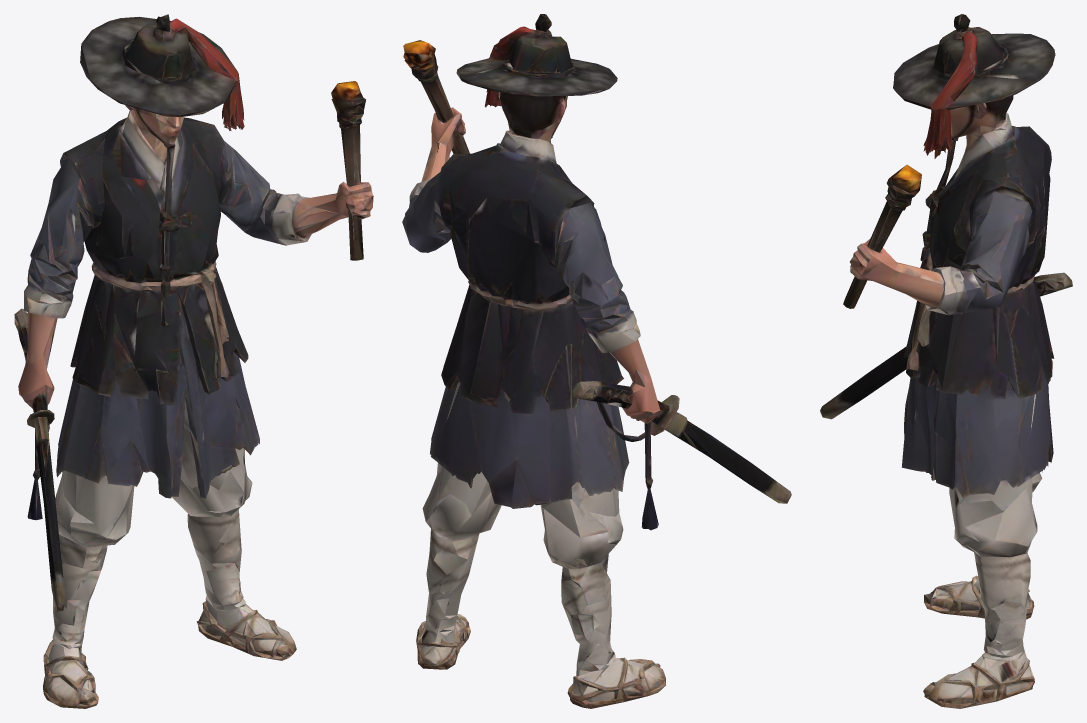
The model's file is rioter_torch.glb.
The picture shows the model from 3 angles, left to right: view 1: azimuth 30°, elevation 25°; view 2: azimuth 150°, elevation 25°; view 3: azimuth 270°, elevation 25°; orthographic projection. The views are drawn at different scales.
Bounding box in the file's own units: 1.05 × 1.9 × 0.6808.
Materials: 1 (1 with a texture image).
